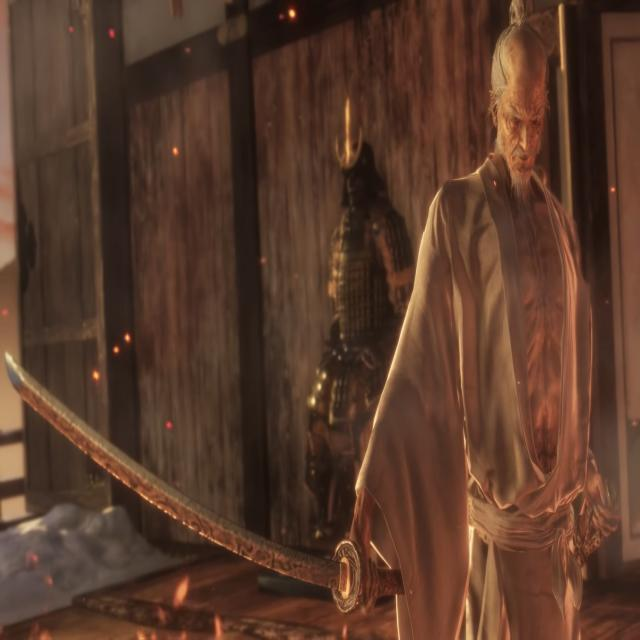katana: (5, 349, 406, 612)
